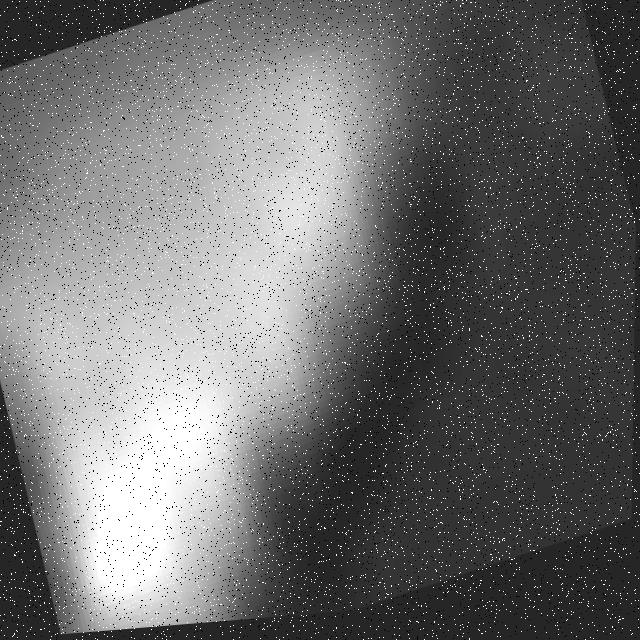person: (1, 1, 545, 640)
